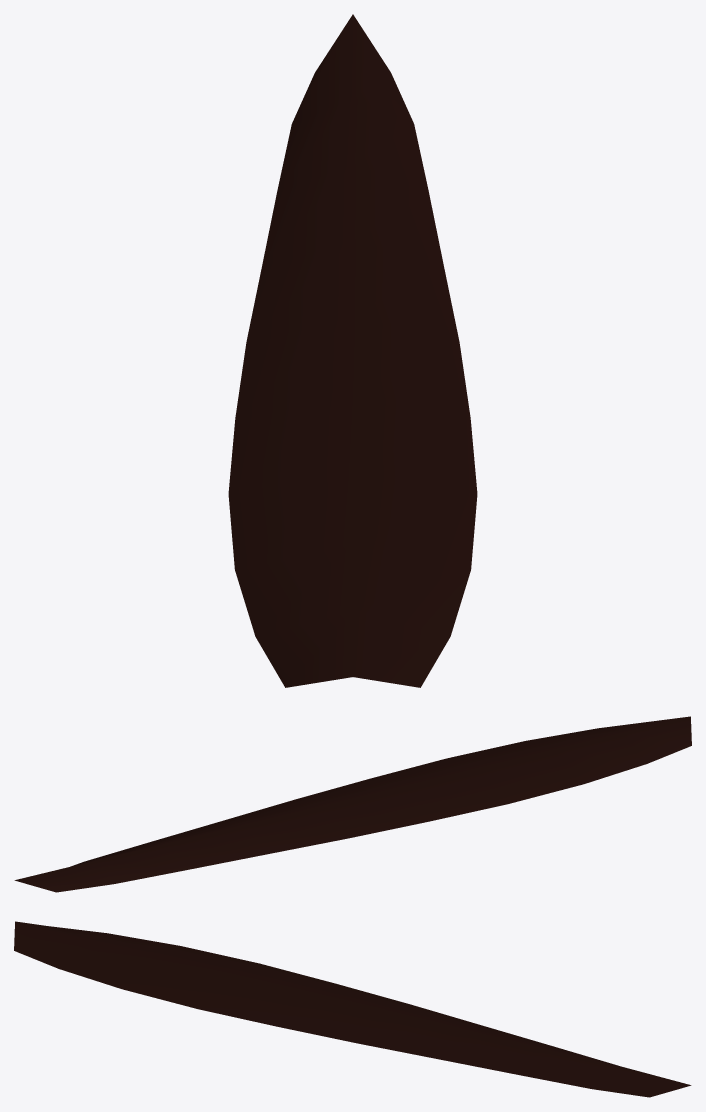
The model's file is pheasant_feather_tail_primary_003.obj.
The picture shows the model from 3 angles, top to bottom: view 1: azimuth 30°, elevation 25°; view 2: azimuth 150°, elevation 25°; view 3: azimuth 270°, elevation 25°; orthographic projection. The views are drawn at different scales.
Visible parts, largest first — view 1: feather_tail_primary_003; view 2: feather_tail_primary_003; view 3: feather_tail_primary_003.
Part boxes in pixels (x1=…): feather_tail_primary_003: x1=228, y1=14, x2=477, y2=687; feather_tail_primary_003: x1=14, y1=716, x2=691, y2=892; feather_tail_primary_003: x1=14, y1=921, x2=691, y2=1097.
Bounding box in the file's own units: 0.1117 × 0.0043 × 0.1844.
